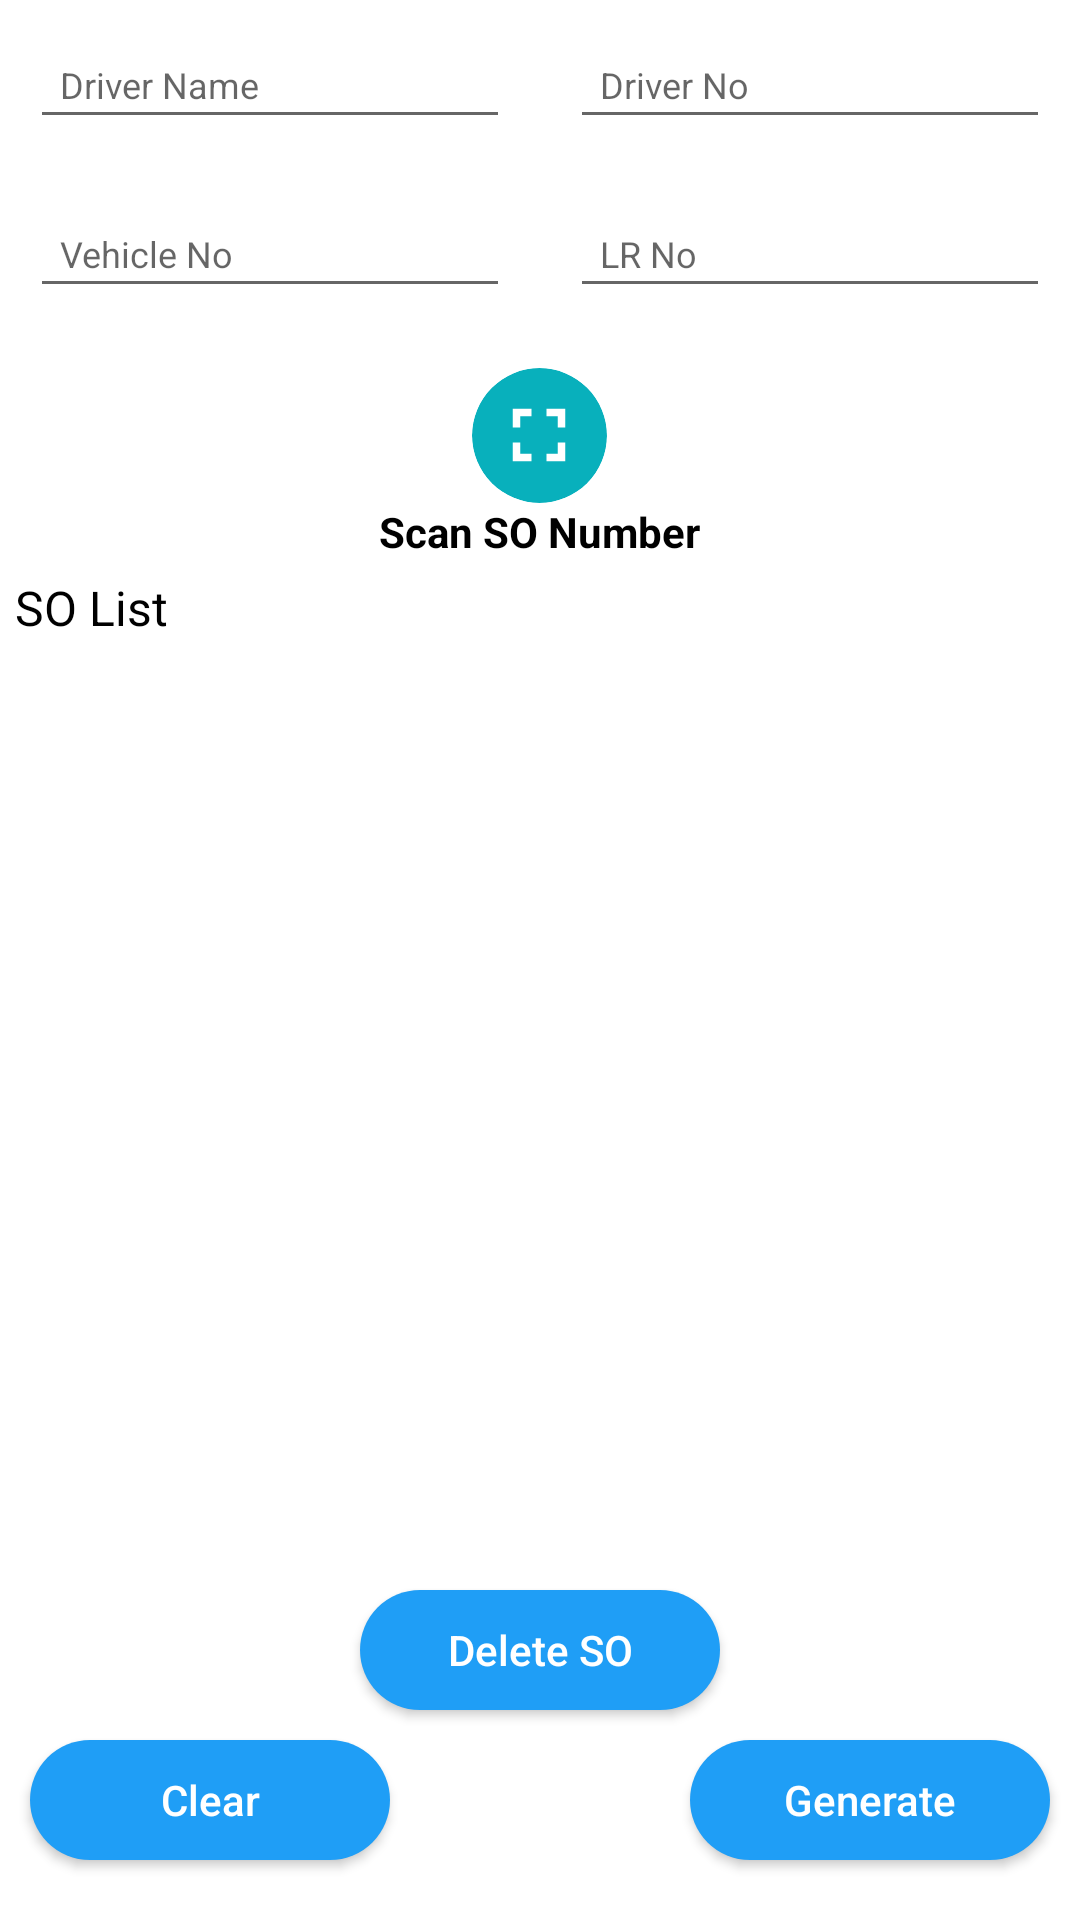

Point at icon controls on the screen. Image size 1080px×1920px, points as [x,y].
fullscreen: [539,435]
